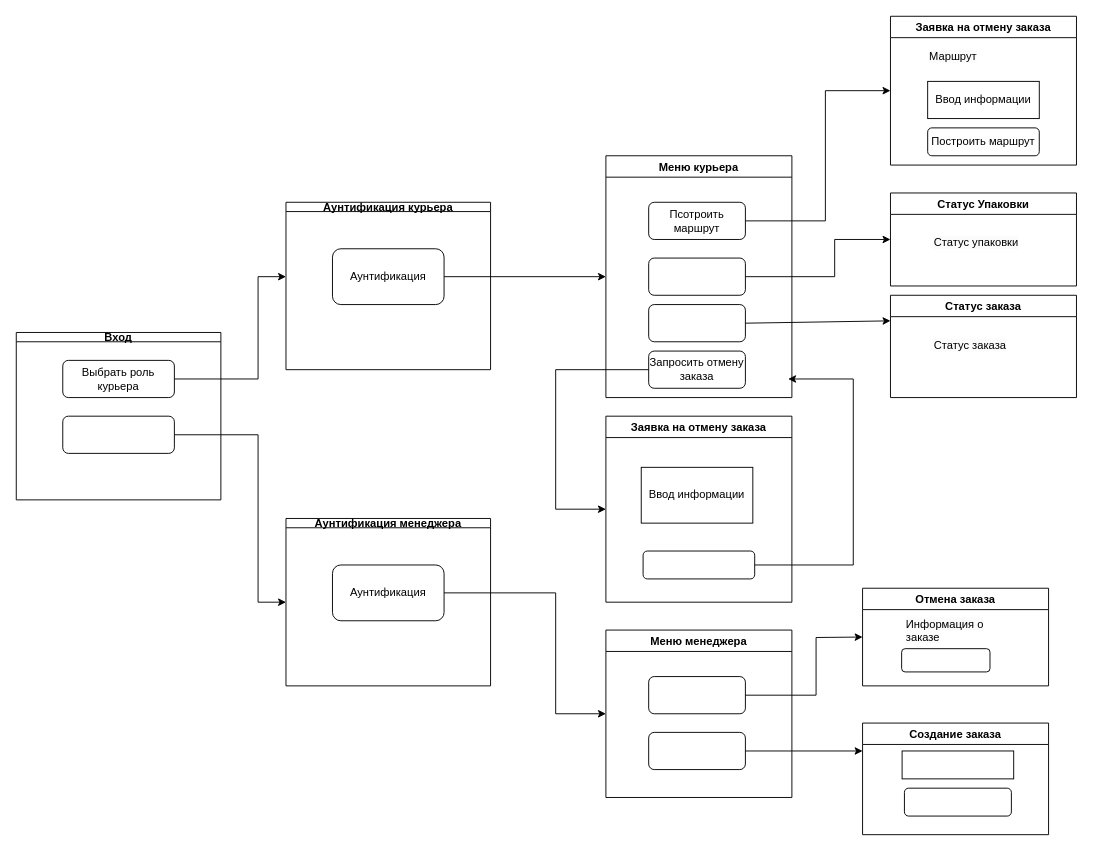
Image size: 1093x851. Some labels were removed from this diagram. Here are the shapes that lost their labels. From the top down, the centre of each, then its label:
At point 696,276: "Подтвердить упаковку".
At point 696,323: "Подтвердить доставку заказа".
At point 118,434: "Выбрать роль менеджера".
At point 698,564: "Готово".
At point 945,660: "Отменить".
At point 696,695: "Отменить заказ".
At point 696,750: "Создать заказ".
At point 957,764: "Ввод информации заказа".
At point 957,801: "Создать".
